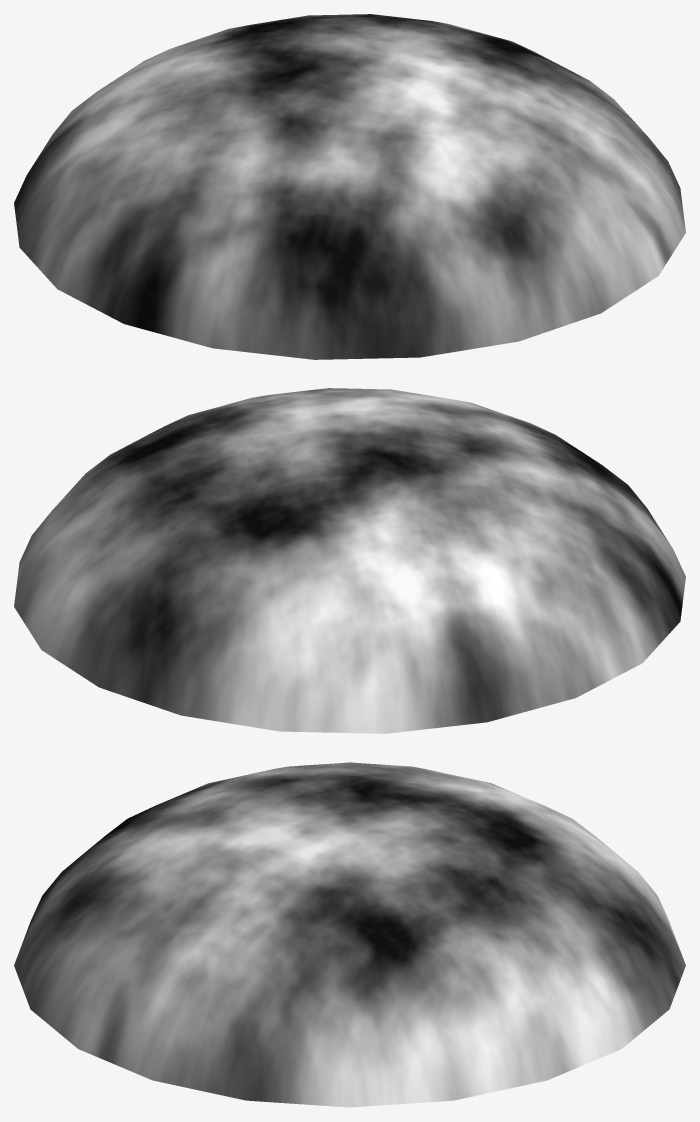
The model's file is LevelBlockout 1.fbx.
The picture shows the model from 3 angles, top to bottom: view 1: azimuth 30°, elevation 25°; view 2: azimuth 150°, elevation 25°; view 3: azimuth 270°, elevation 25°; orthographic projection.
Visible parts, largest first — view 1: Cloud_Dome; view 2: Cloud_Dome; view 3: Cloud_Dome.
Boxes of the visible parts, bbox=[...] form: Cloud_Dome: bbox=[14, 14, 685, 359]; Cloud_Dome: bbox=[14, 388, 685, 733]; Cloud_Dome: bbox=[14, 762, 685, 1107].
Bounding box in the file's own units: 80146 × 20183 × 80146.
2 materials, 1 textured.
